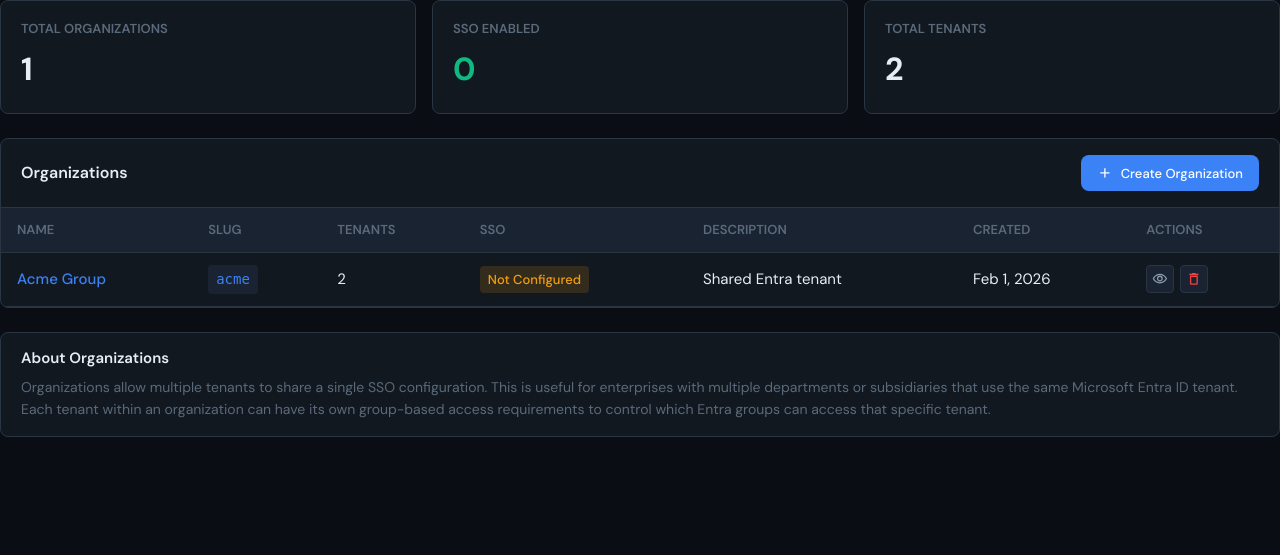
OrganizationList › refuses to delete an organization that still has tenants
Click the button titled "Delete Organization".
click(1194, 279)  # box [1180, 265, 1208, 293]
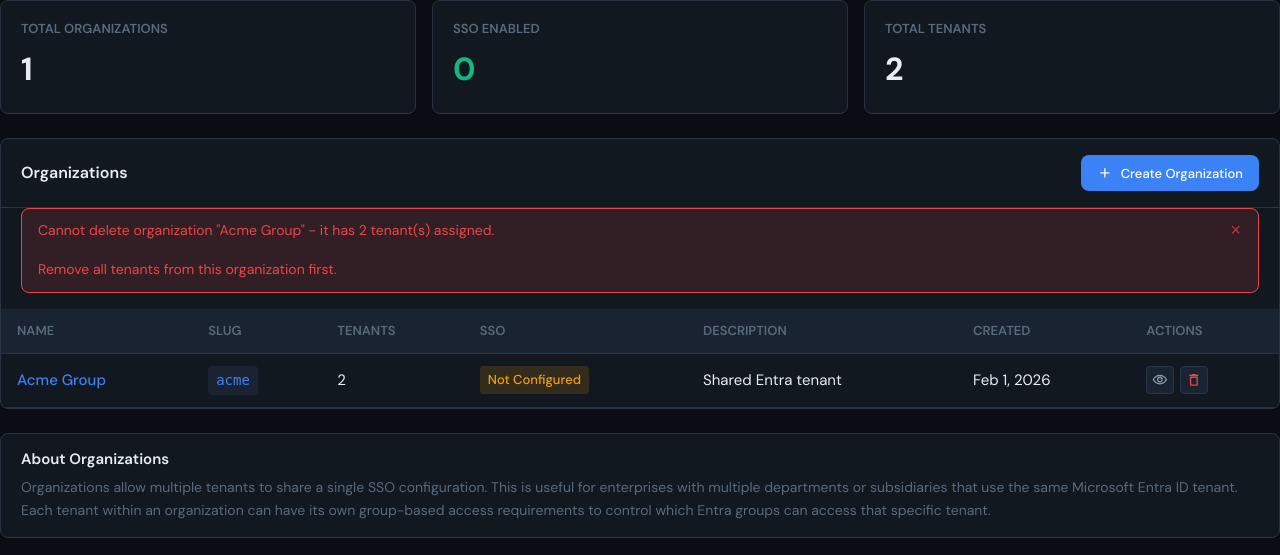
Expected: the message shows "it has 2 tenant(s) assigned", [38, 221, 494, 278]
